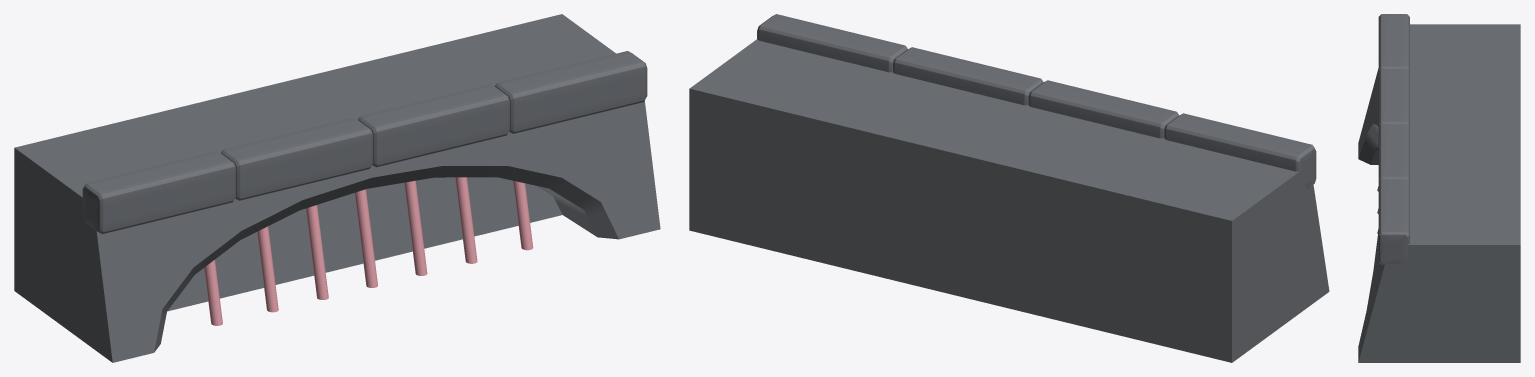
File: SM_Rebord_B.fbx
The picture shows the model from 3 angles, left to right: view 1: azimuth 30°, elevation 25°; view 2: azimuth 150°, elevation 25°; view 3: azimuth 270°, elevation 25°; orthographic projection. The views are drawn at different scales.
Visible parts, largest first — view 1: Rebord_B; view 2: Rebord_B; view 3: Rebord_B.
Boxes of the visible parts, box(x1,y1,x2,y2) form: Rebord_B: box(14, 14, 660, 362); Rebord_B: box(689, 14, 1329, 362); Rebord_B: box(1358, 14, 1520, 362).
Bounding box in the file's own units: 100 × 27.5 × 31.09.
